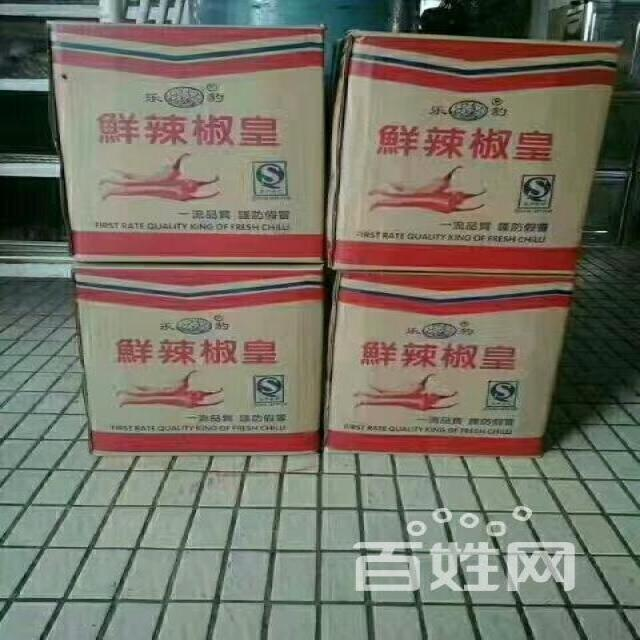box: (326, 31, 625, 275), (48, 17, 326, 263), (72, 261, 326, 455), (323, 265, 572, 459)
